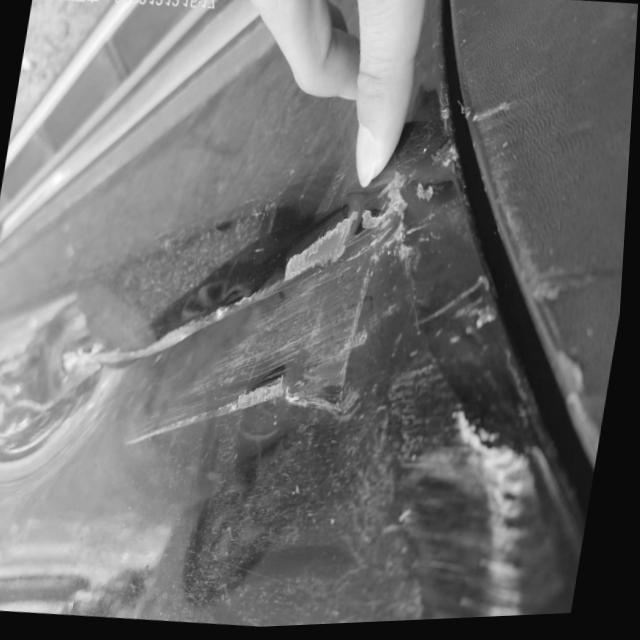Scratch: (62, 206, 380, 374)
